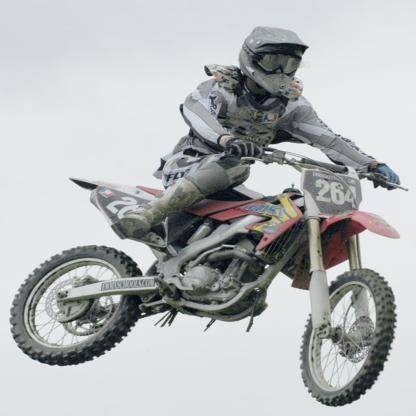Helmet: (239, 22, 310, 104)
